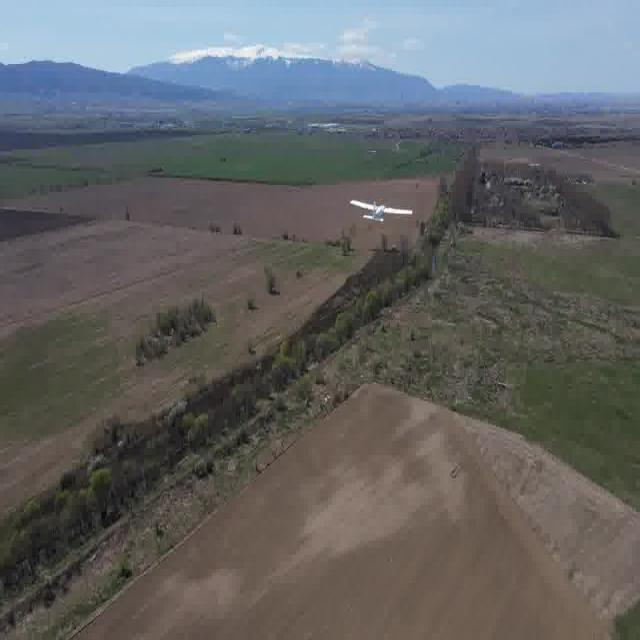iha: (380, 190, 384, 233)
